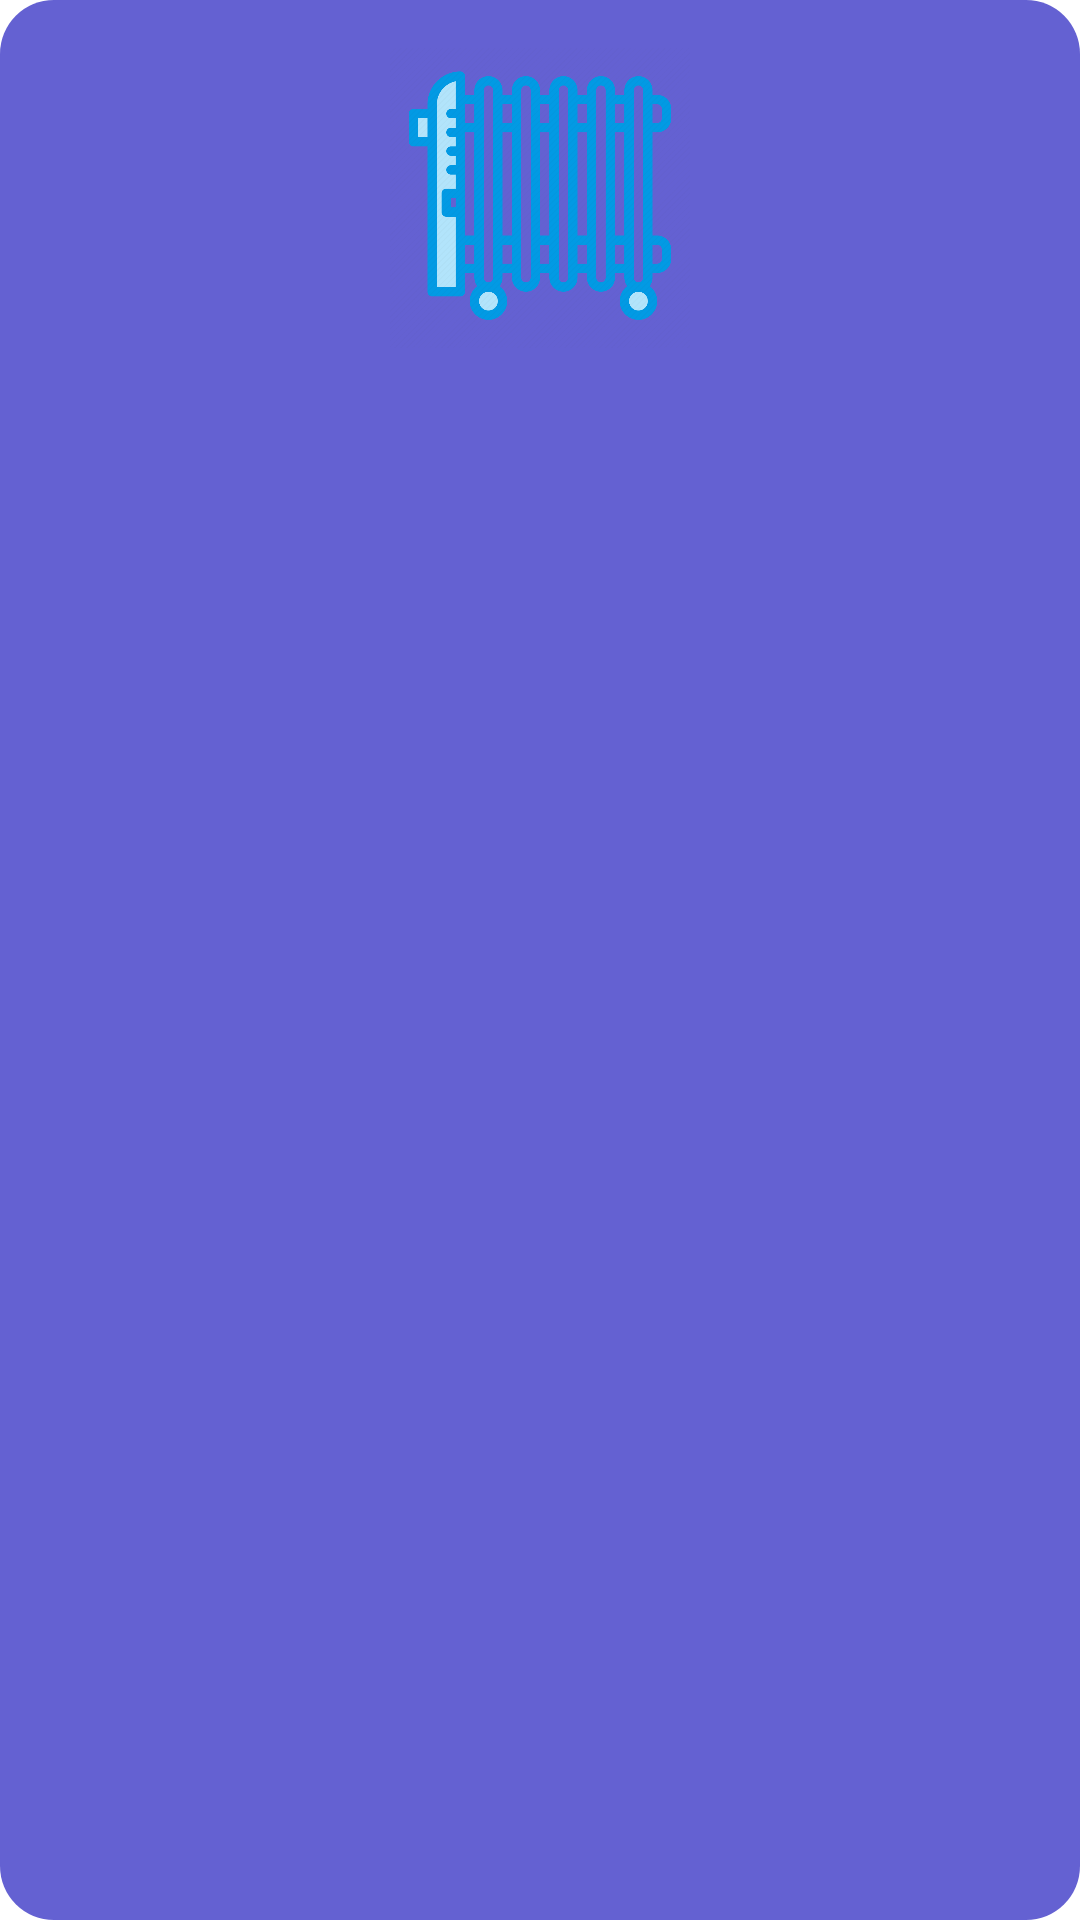

Where to tap for icons on this 1080px x 1920px app screen, as [x,y]:
Device image: [540,195]
